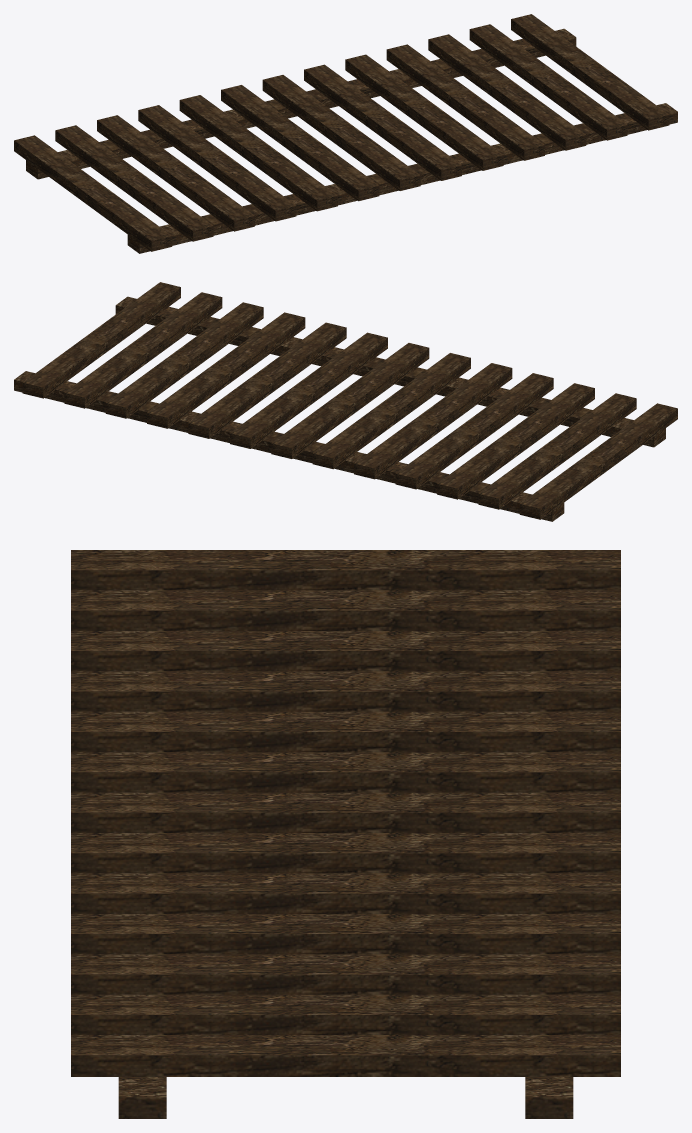
Rendered from bridge.obj.
The picture shows the model from 3 angles, top to bottom: view 1: azimuth 30°, elevation 25°; view 2: azimuth 150°, elevation 25°; view 3: azimuth 270°, elevation 25°; orthographic projection. The views are drawn at different scales.
Visible parts, largest first — view 1: Brush5, Brush6, Brush1, Brush10, Brush11, Brush12, Brush14, Brush3, Brush13, Brush7, Brush8, Brush4 (+3 smaller); view 2: Brush5, Brush6, Brush1, Brush10, Brush11, Brush12, Brush14, Brush3, Brush13, Brush7, Brush8, Brush4 (+3 smaller); view 3: Brush6, Brush14, Brush1, Brush3, Brush4, Brush5, Brush7, Brush8, Brush9, Brush10, Brush11, Brush12 (+3 smaller).
Boxes of the visible parts, box(x1,y1,x2,y2) form: Brush5: box(138, 105, 296, 221); Brush6: box(179, 95, 337, 211); Brush1: box(14, 135, 172, 251); Brush10: box(345, 54, 503, 170); Brush11: box(386, 44, 544, 160); Brush12: box(428, 34, 586, 150); Brush14: box(511, 14, 669, 130); Brush3: box(55, 125, 213, 241); Brush13: box(469, 24, 627, 140); Brush7: box(221, 85, 379, 201); Brush8: box(262, 75, 420, 190); Brush4: box(97, 115, 254, 231); Brush5: box(395, 373, 553, 489); Brush6: box(354, 363, 512, 479); Brush1: box(519, 403, 677, 519); Brush10: box(188, 322, 346, 438); Brush11: box(147, 312, 305, 428); Brush12: box(105, 302, 263, 418); Brush14: box(22, 282, 180, 398); Brush3: box(478, 393, 636, 509); Brush13: box(64, 292, 222, 408); Brush7: box(312, 353, 470, 469); Brush8: box(271, 343, 429, 458); Brush4: box(437, 383, 594, 499); Brush6: box(71, 711, 620, 752); Brush14: box(71, 1035, 620, 1076); Brush1: box(71, 550, 620, 590); Brush3: box(71, 590, 620, 630); Brush4: box(71, 631, 620, 671); Brush5: box(71, 671, 620, 711); Brush7: box(71, 752, 620, 792); Brush8: box(71, 792, 620, 832); Brush9: box(71, 833, 620, 873); Brush10: box(71, 873, 620, 913); Brush11: box(71, 914, 620, 954); Brush12: box(71, 954, 620, 994).
Size of the model in its own units: 416 by 16 by 184.
